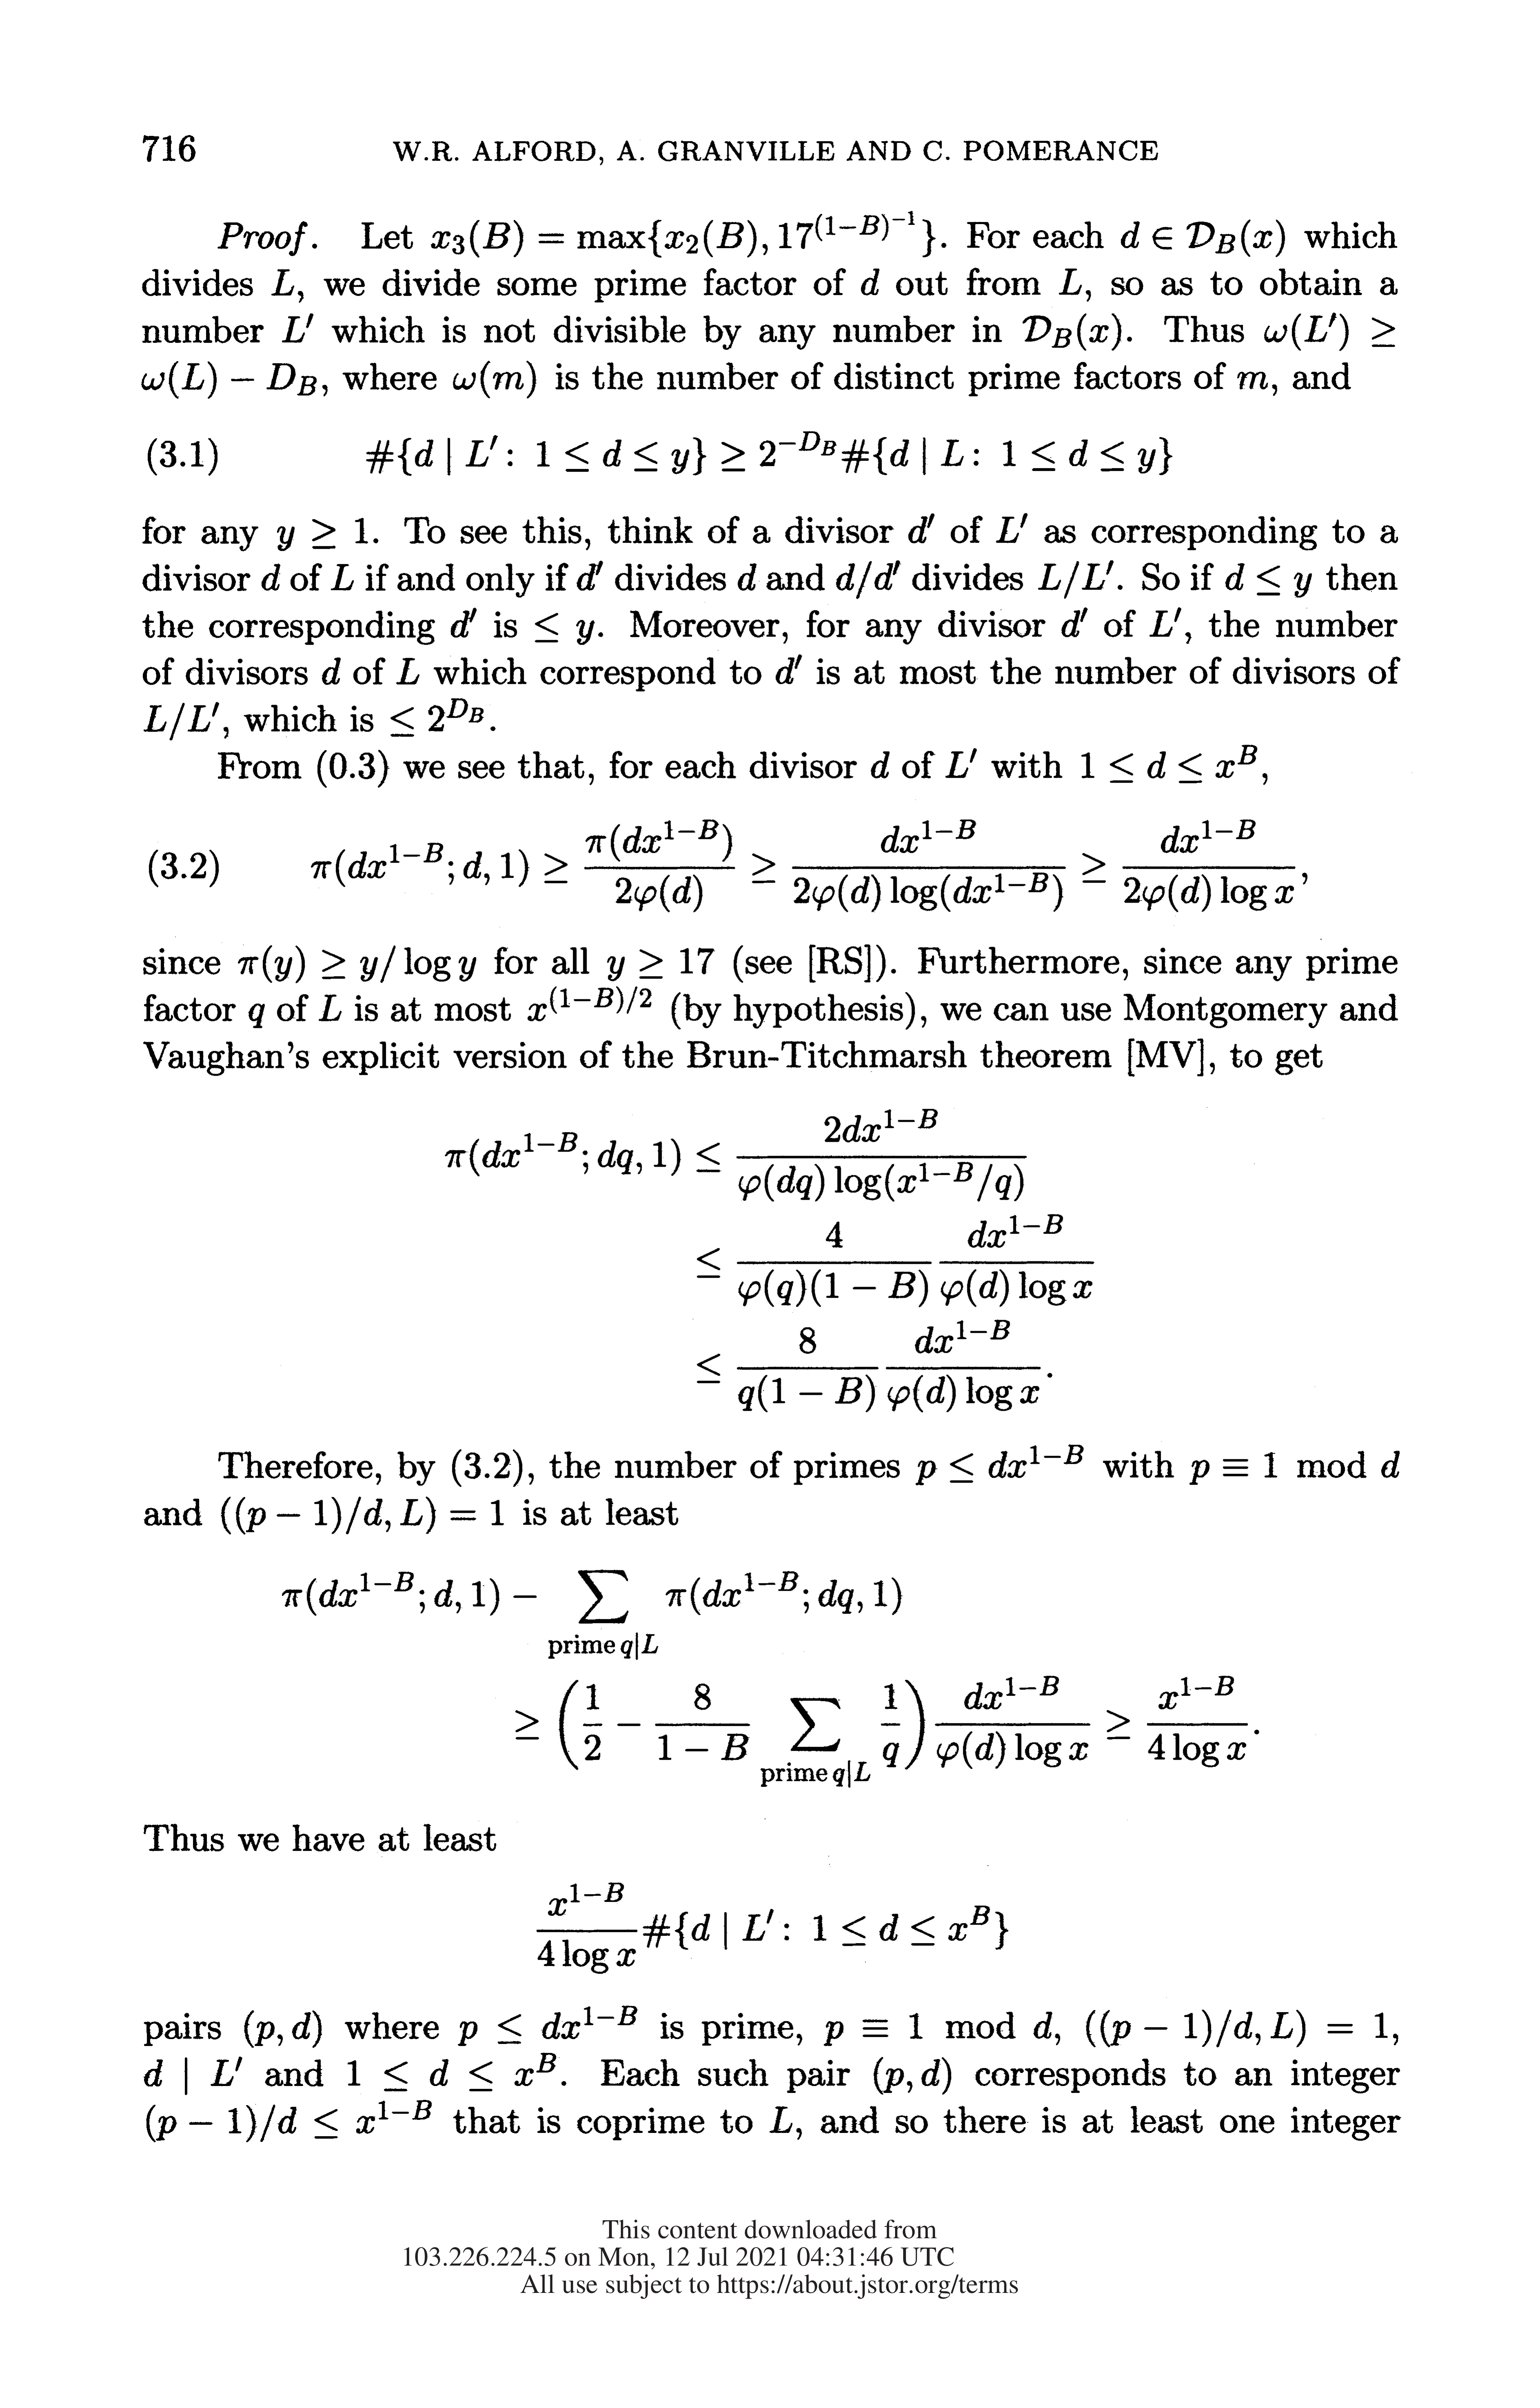maths: (310, 820, 1294, 911), (516, 1676, 1247, 1787), (282, 1569, 902, 1660), (446, 1109, 1026, 1200), (537, 1883, 1009, 1973), (696, 1215, 1094, 1308), (367, 432, 1172, 476), (696, 1320, 1040, 1411), (431, 211, 935, 256), (146, 2099, 431, 2141), (1086, 2010, 1387, 2046), (221, 1497, 503, 1534), (239, 944, 475, 983), (824, 2011, 1052, 2046), (458, 2006, 637, 2046), (347, 2052, 556, 2085), (916, 1444, 1084, 1485), (1082, 744, 1258, 783), (140, 362, 316, 398), (1121, 219, 1284, 256), (1265, 312, 1394, 351), (528, 986, 651, 1020), (144, 2057, 242, 2094), (607, 948, 714, 981), (1023, 314, 1121, 349), (391, 699, 484, 735), (453, 362, 537, 398), (277, 518, 368, 551), (244, 2010, 321, 2048), (1224, 563, 1312, 597), (1038, 560, 1114, 598), (144, 702, 219, 741), (873, 2057, 951, 2094), (837, 560, 902, 598), (535, 613, 595, 644), (1189, 1458, 1247, 1485), (272, 269, 303, 302), (996, 512, 1028, 542), (945, 748, 977, 778), (1149, 607, 1180, 635), (282, 314, 312, 342), (909, 512, 935, 542), (577, 560, 603, 590), (1061, 607, 1087, 637), (775, 655, 802, 683), (451, 607, 475, 637), (1059, 269, 1082, 295), (396, 658, 419, 684), (770, 2106, 793, 2132), (319, 995, 342, 1020), (1237, 372, 1268, 390), (332, 563, 353, 590), (738, 563, 759, 590), (261, 563, 281, 590), (861, 269, 879, 295), (323, 658, 340, 684), (872, 751, 889, 778), (1382, 1451, 1400, 1478), (249, 1004, 265, 1027)
